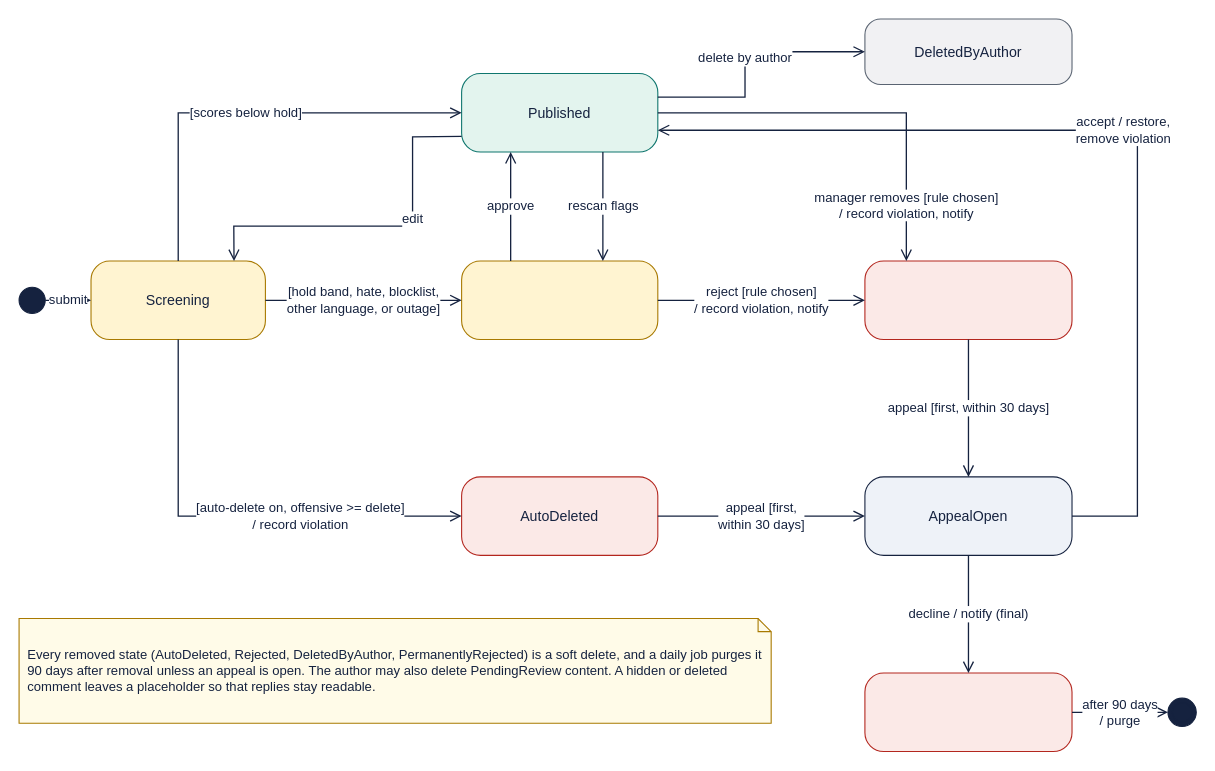
Some shapes in this 1215 by 771 pixel diagram are drawn without their labels. The box of each missing label's shape, as (x1, y1, x2, y2) in pixels:
PendingReview: (461, 260, 658, 340)
PermanentlyRejected: (864, 672, 1072, 752)
Rejected: (864, 260, 1072, 340)
